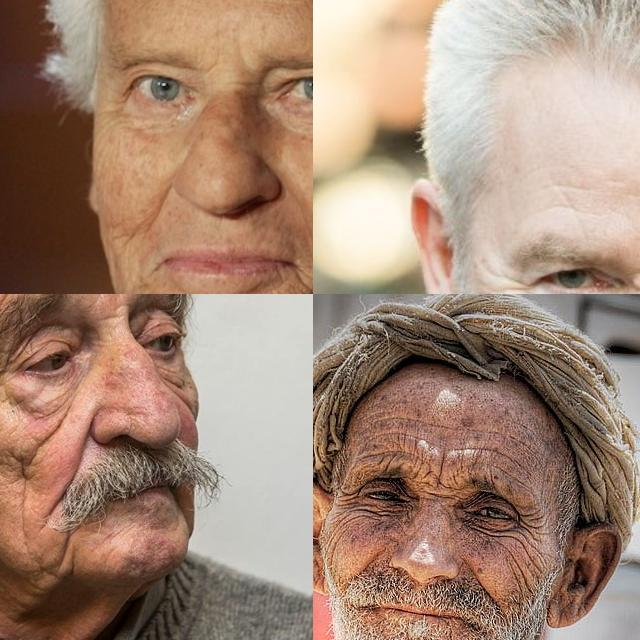crows_feet: (334, 483, 366, 515), (484, 271, 527, 294), (102, 92, 128, 126), (516, 506, 540, 542), (0, 356, 16, 398)
forehead: (454, 436, 514, 468), (548, 173, 584, 224), (379, 406, 433, 432), (373, 426, 422, 448), (374, 446, 398, 476)
frown_line: (96, 303, 130, 327), (203, 42, 225, 78), (420, 484, 456, 506), (414, 466, 436, 496), (431, 446, 447, 484), (230, 74, 260, 88)
gummy_smile: (68, 422, 94, 483), (144, 181, 174, 229), (38, 488, 68, 522), (353, 550, 383, 576), (464, 565, 488, 595)
masseter: (32, 414, 68, 454), (507, 561, 537, 603), (8, 448, 38, 488), (322, 526, 342, 560)
sad_smile: (52, 530, 80, 582), (169, 488, 193, 536)
